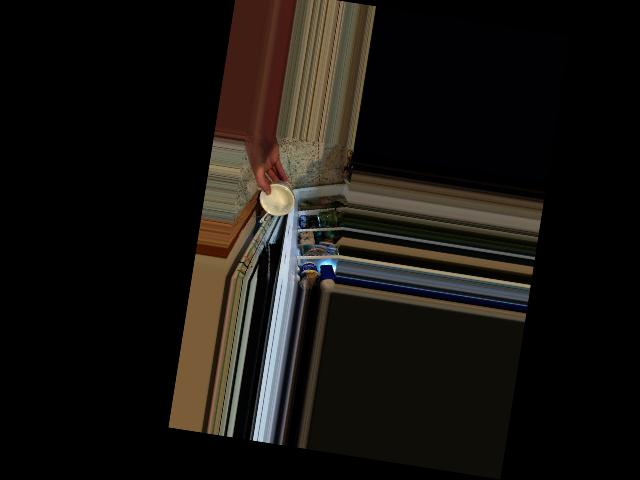cotage: (261, 176, 296, 219)
